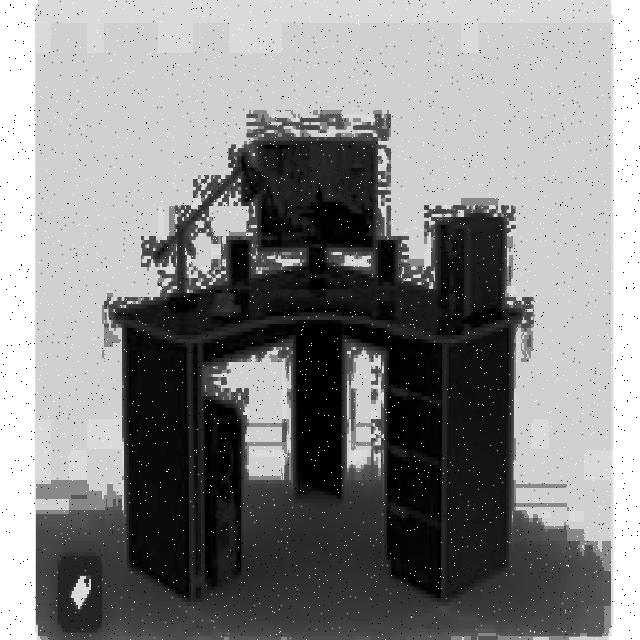table: (113, 255, 520, 606)
